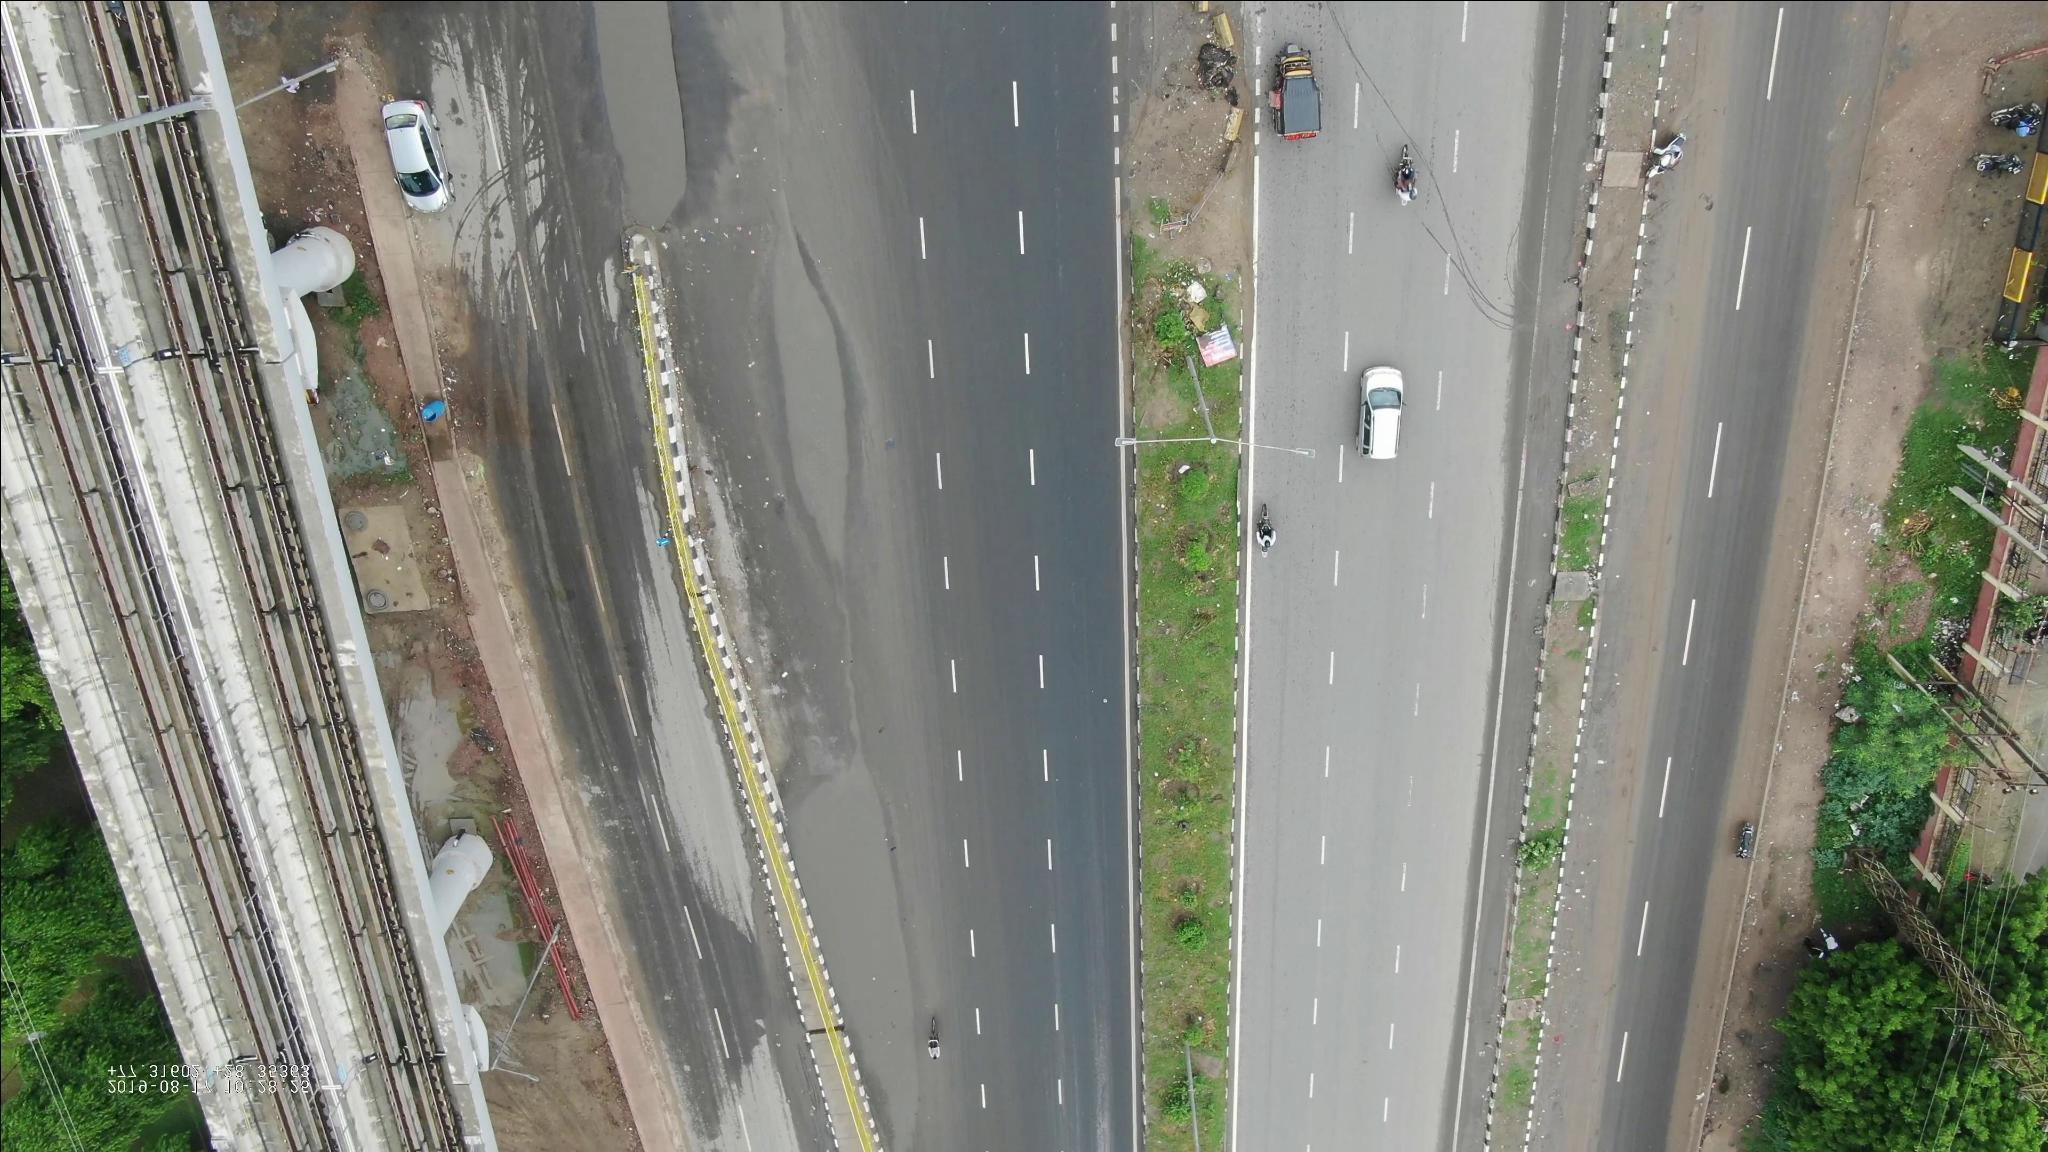Muddy_road: (1643, 30, 1737, 295), (1615, 314, 1709, 551), (1556, 838, 1633, 1096), (1582, 589, 1670, 814), (1720, 574, 1793, 813), (1767, 293, 1838, 532), (1679, 852, 1739, 1089)
Potholes: (753, 219, 876, 582), (577, 3, 708, 226)
Waterlogging: (803, 772, 927, 1135)
